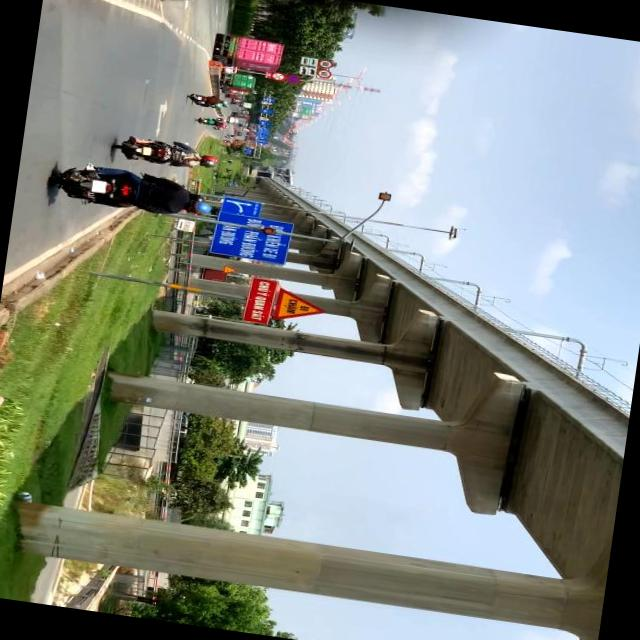W-245a: (272, 288, 328, 326)
